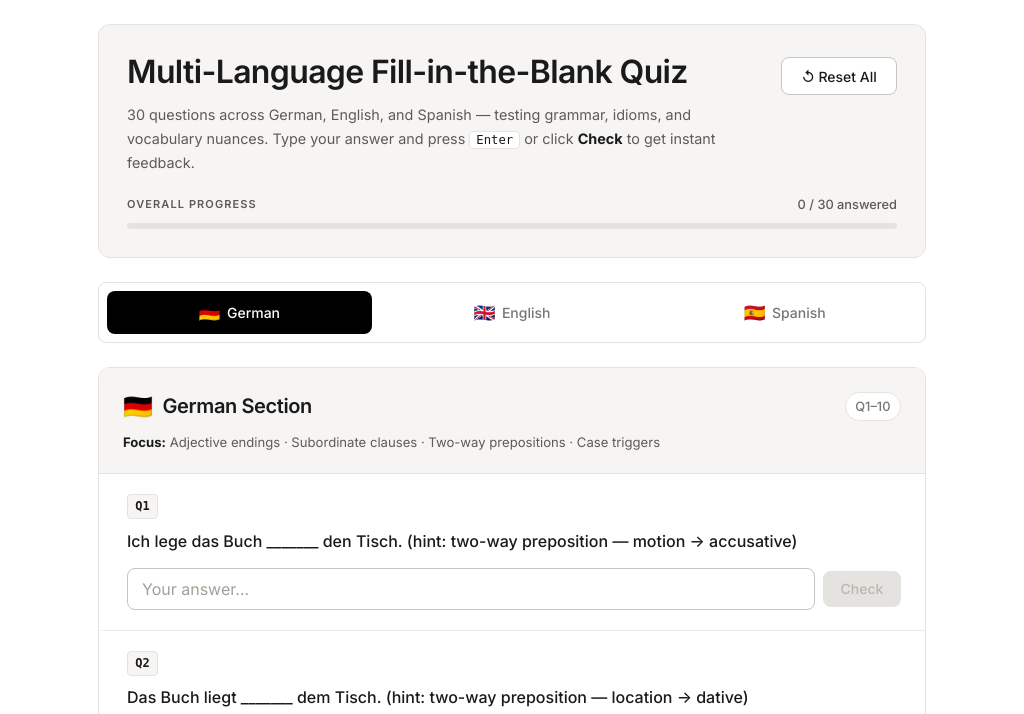
Test: QuizPage › Group 2 — Tab Navigation › clicking the English tab shows Q11
Step 1. Click the tab "🇬🇧 English" → (512, 312), box left=380, top=290, right=644, bottom=334
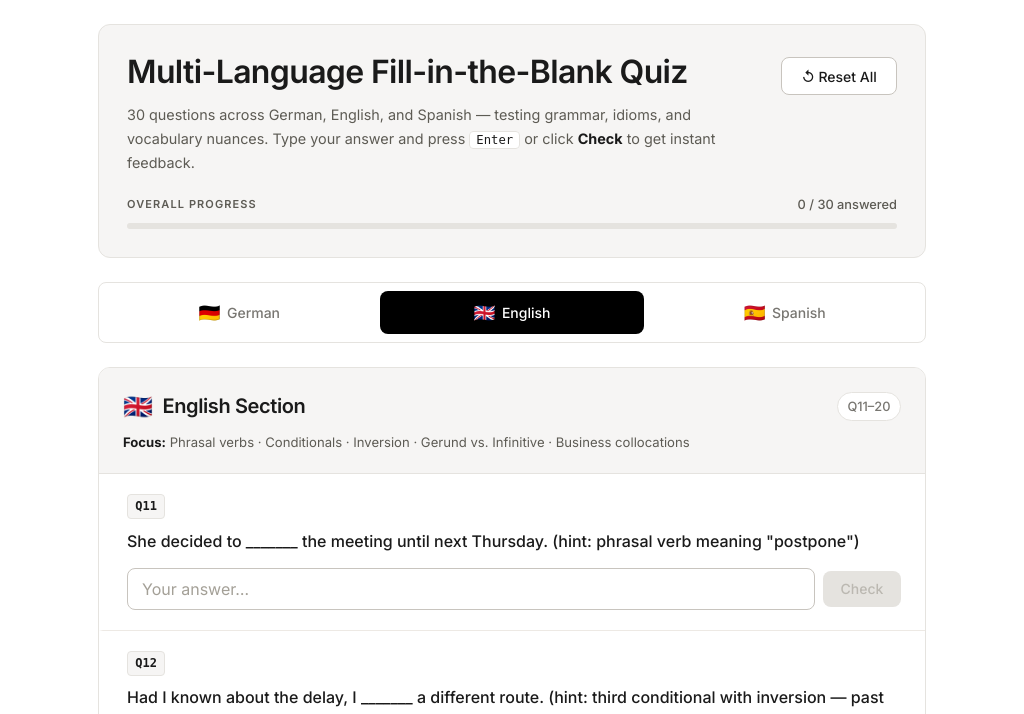
Expected: the text "Q11" is shown, left=127, top=494, right=165, bottom=519
